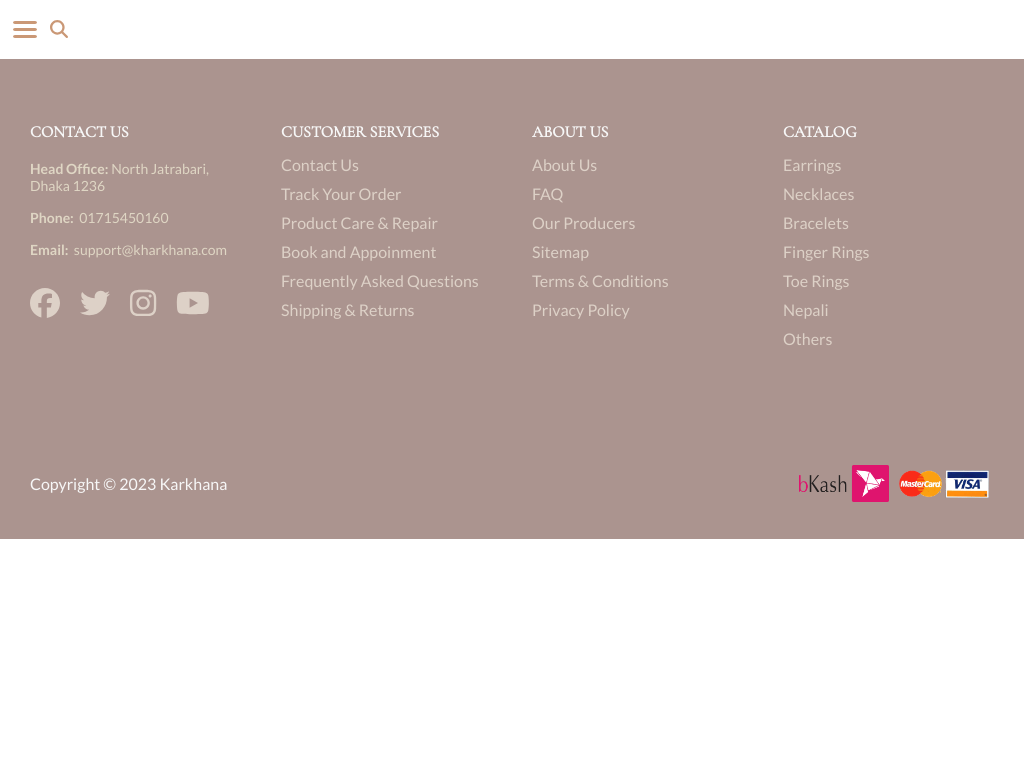
Test: <App /> › should render app, topbar, footer and backdrop and sidedrawer conditionally
This screenshot has width=1024, height=768.
expect the element with test id "topbar" is shown: met, box [0,0,1023,59]
Note: checking backdrop and sidedrawer is working properly
Click the element with test id "drawToggle" at (25, 29), box [13,21,37,38]
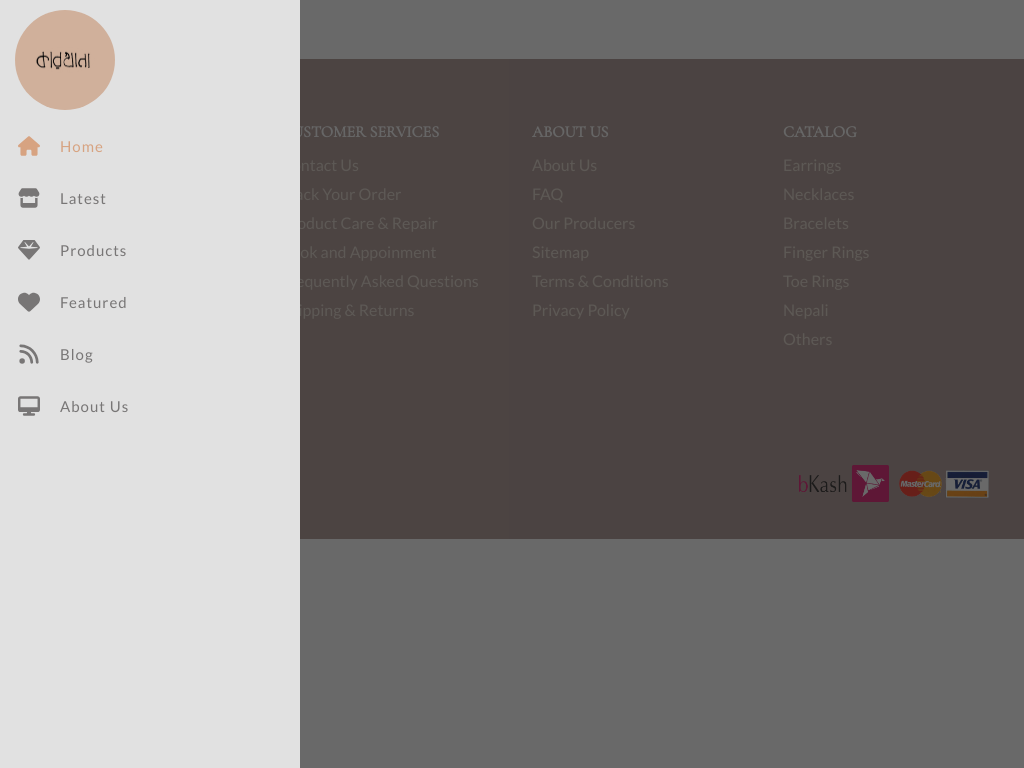
expect the element with test id "sidedrawer" is shown: met, box [0,0,300,767]
expect the element with test id "backdrop" is shown: met
